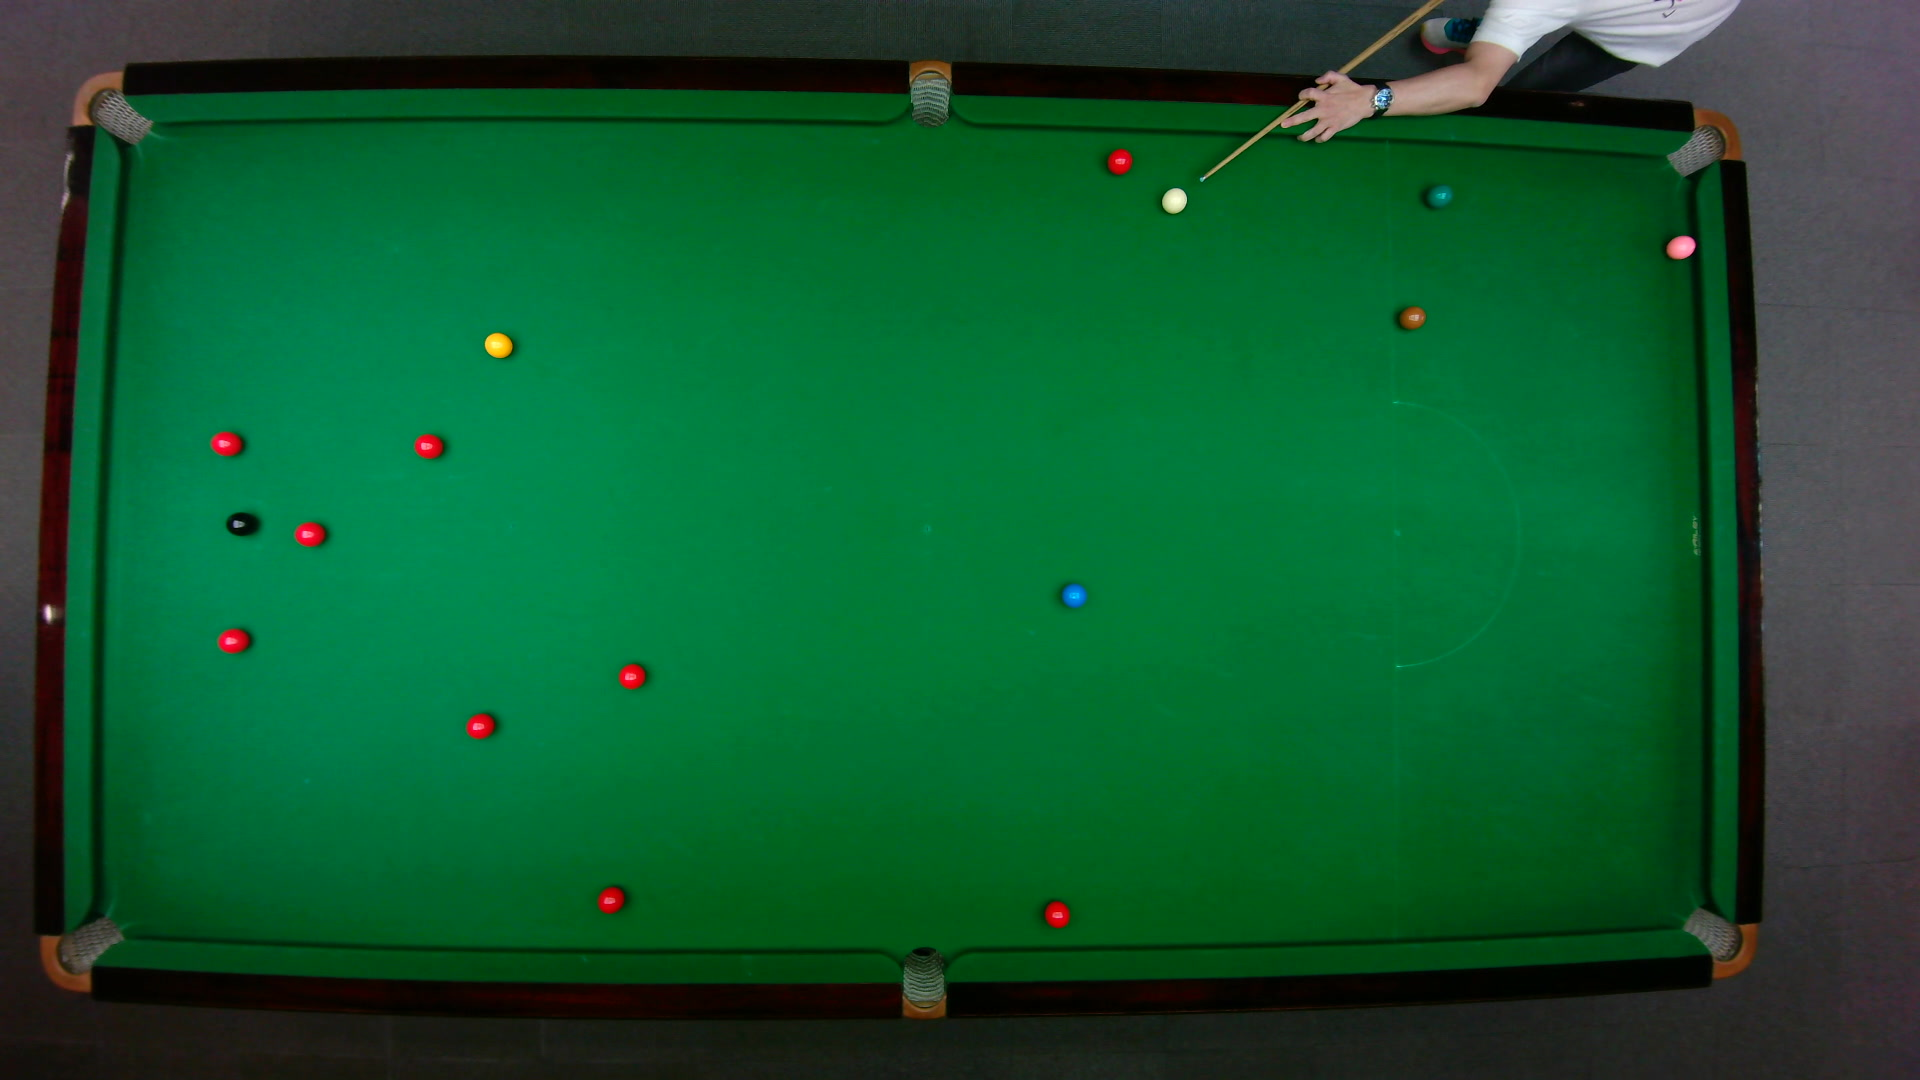bag: (37, 914, 125, 992), (69, 69, 153, 145), (1679, 905, 1756, 978), (1663, 107, 1742, 177), (901, 944, 944, 1021), (909, 58, 949, 128)
black: (222, 509, 256, 535)
blue: (1059, 582, 1087, 608)
brown: (1396, 305, 1427, 330)
cue: (1197, 0, 1445, 179)
green: (1423, 182, 1455, 208)
pink: (1663, 232, 1697, 260)
red: (208, 429, 244, 458), (215, 626, 251, 654), (291, 520, 326, 547), (595, 884, 625, 914), (616, 661, 647, 690), (411, 433, 444, 459), (1042, 899, 1071, 928), (464, 711, 495, 738), (1105, 146, 1133, 175)
white: (1159, 186, 1188, 215)
yellow: (483, 330, 513, 357)
zone: (1390, 400, 1520, 669)
